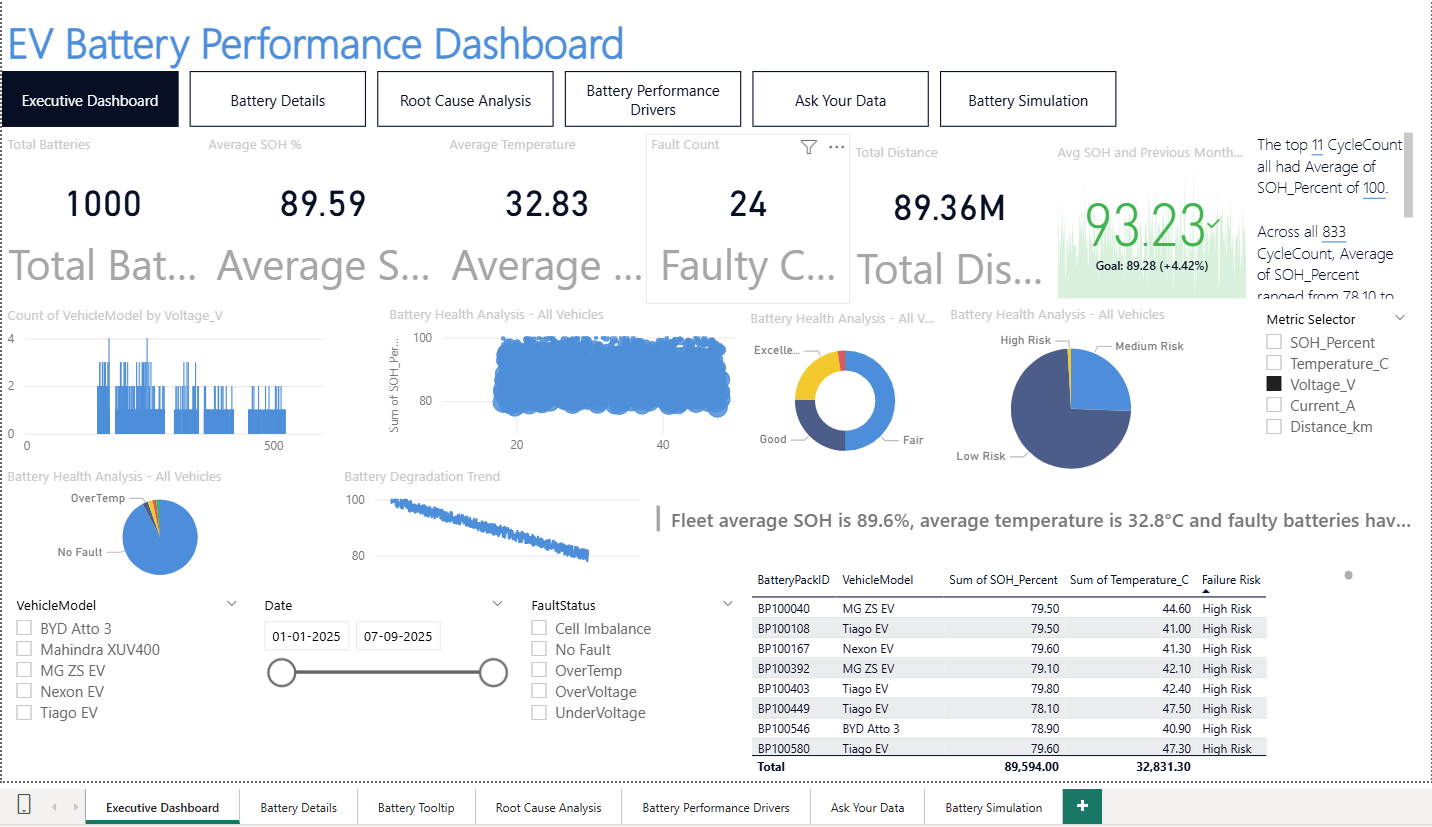

The page's visual inventory and layout, read from the dashboard file:
{"tool":"powerbi","page":{"name":"Executive Dashboard","canvas":[1280,720],"ordinal":0},"visuals":[{"type":"card","title":"Total Batteries","fields":{"Values":["Battery_Data.Total Batteries"]},"box":[0,141,180.4,152.2],"z":0},{"type":"card","title":"Average SOH %","fields":{"Values":["Battery_Data.Average SOH"]},"box":[180.4,141,215.4,152.2],"z":1000},{"type":"card","title":"Average Temperature","fields":{"Values":["Battery_Data.Average Temp"]},"box":[395.8,141,185,152.2],"z":2000},{"type":"card","title":"Fault Count","fields":{"Values":["Battery_Data.Faulty Count"]},"box":[576.3,141,182.7,152.2],"z":3000},{"type":"card","title":"Total Distance","fields":{"Values":["Battery_Data.Total Distance"]},"box":[759,147.7,178.2,145.5],"z":4000},{"type":"scatterChart","fields":{"X":["Sum(Battery_Data.Temperature_C)"],"Y":["Sum(Battery_Data.SOH_Percent)"],"Size":["Sum(Battery_Data.CycleCount)"],"Category":["Battery_Data.BatteryPackID"]},"box":[341.7,293.2,325.9,144.4],"z":6000},{"type":"pieChart","fields":{"Category":["Battery_Data.FaultStatus"],"Y":["CountNonNull(Battery_Data.BatteryPackID)"]},"box":[0,437.6,283.1,111.6],"z":7000},{"type":"lineChart","title":"Battery Degradation Trend","fields":{"Category":["Battery_Data.CycleCount"],"Y":["Avg(Battery_Data.SOH_Percent)"]},"box":[302.2,437.6,274,111.6],"z":8000},{"type":"slicer","fields":{"Values":["Battery_Data.VehicleModel"]},"box":[0,549.2,223.3,170.3],"z":9000},{"type":"slicer","fields":{"Values":["Battery_Data.Date"]},"box":[222.2,549.2,239.1,170.3],"z":10000},{"type":"slicer","fields":{"Values":["Battery_Data.FaultStatus"]},"box":[461.3,549.2,206.4,170.3],"z":11000},{"type":"textbox","box":[1044.6,525.2,149.8,194.5],"z":12000},{"type":"textbox","box":[0,28.2,722.7,67.1],"z":13000},{"type":"donutChart","fields":{"Category":["Battery_Data.Health Category"],"Y":["CountNonNull(Battery_Data.BatteryPackID)"]},"box":[665.4,296.6,179.3,150],"z":14000},{"type":"kpi","fields":{"Indicator":["Battery_Data.Avg SOH"],"TrendLine":["Battery_Data.Date"],"Goal":["Battery_Data.Previous Month SOH"]},"box":[940.5,147.7,179.3,145.5],"z":15000},{"type":"pieChart","fields":{"Category":["Battery_Data.Failure Risk"],"Y":["CountNonNull(Battery_Data.BatteryPackID)"]},"box":[844.7,293.2,225.6,171.4],"z":16000},{"type":"tableEx","fields":{"Values":["Battery_Data.BatteryPackID","Battery_Data.VehicleModel","Sum(Battery_Data.SOH_Percent)","Sum(Battery_Data.Temperature_C)","Battery_Data.Failure Risk"]},"box":[665.4,525.5,550.3,194],"z":17000},{"type":"textbox","box":[1118.7,134.2,150,159],"z":18000},{"type":"pageNavigator","box":[0,84.2,1000.3,50.1],"z":19000},{"type":"slicer","fields":{"Values":["Metric Selector.Metric Selector"]},"box":[1119,293,150,171],"z":20000},{"type":"clusteredColumnChart","fields":{"Category":["Battery_Data.Voltage_V"],"Y":["CountNonNull(Battery_Data.VehicleModel)"]},"box":[0,293.7,301.8,144.2],"z":20001},{"type":"multiRowCard","fields":{"Values":["Battery_Data.Executive Commentary"]},"box":[581.2,468.4,686.9,50.1],"z":20002}]}

Visuals, with their boxes on the page's 1280x720 design canvas (x1, y1, x2, y2). These are canvas units, not pixel positions in the 1432x827 screenshot, which may show the page scaled, cropped or inside an application window:
"Total Batteries" card: <bbox>0, 141, 180, 293</bbox>
"Average SOH %" card: <bbox>180, 141, 396, 293</bbox>
"Average Temperature" card: <bbox>396, 141, 581, 293</bbox>
"Fault Count" card: <bbox>576, 141, 759, 293</bbox>
"Total Distance" card: <bbox>759, 148, 937, 293</bbox>
scatterChart - Sum(Battery_Data.Temperature_C) x Sum(Battery_Data.SOH_Percent): <bbox>342, 293, 668, 438</bbox>
pieChart - Battery_Data.FaultStatus x CountNonNull(Battery_Data.BatteryPackID): <bbox>0, 438, 283, 549</bbox>
"Battery Degradation Trend" lineChart: <bbox>302, 438, 576, 549</bbox>
slicer - Battery_Data.VehicleModel: <bbox>0, 549, 223, 720</bbox>
slicer - Battery_Data.Date: <bbox>222, 549, 461, 720</bbox>
slicer - Battery_Data.FaultStatus: <bbox>461, 549, 668, 720</bbox>
textbox: <bbox>1045, 525, 1194, 720</bbox>
textbox: <bbox>0, 28, 723, 95</bbox>
donutChart - Battery_Data.Health Category x CountNonNull(Battery_Data.BatteryPackID): <bbox>665, 297, 845, 447</bbox>
kpi - Battery_Data.Avg SOH x Battery_Data.Date: <bbox>940, 148, 1120, 293</bbox>
pieChart - Battery_Data.Failure Risk x CountNonNull(Battery_Data.BatteryPackID): <bbox>845, 293, 1070, 465</bbox>
tableEx - Battery_Data.BatteryPackID x Battery_Data.VehicleModel: <bbox>665, 526, 1216, 720</bbox>
textbox: <bbox>1119, 134, 1269, 293</bbox>
pageNavigator: <bbox>0, 84, 1000, 134</bbox>
slicer - Metric Selector.Metric Selector: <bbox>1119, 293, 1269, 464</bbox>
clusteredColumnChart - Battery_Data.Voltage_V x CountNonNull(Battery_Data.VehicleModel): <bbox>0, 294, 302, 438</bbox>
multiRowCard - Battery_Data.Executive Commentary: <bbox>581, 468, 1268, 518</bbox>
